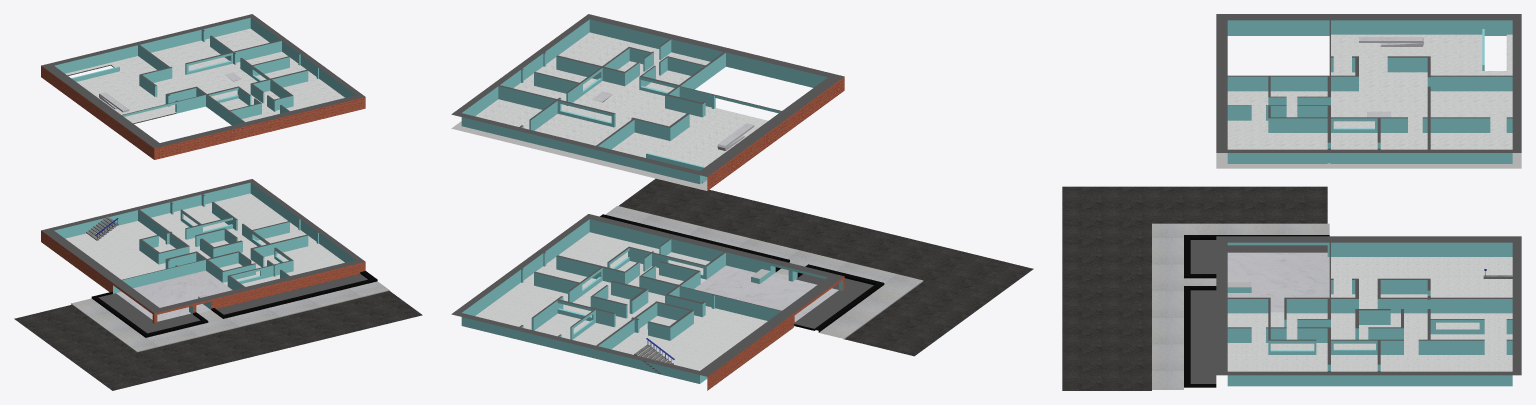
The picture shows the model from 3 angles, left to right: view 1: azimuth 30°, elevation 25°; view 2: azimuth 150°, elevation 25°; view 3: azimuth 270°, elevation 25°; orthographic projection. The views are drawn at different scales.
Visible parts, largest first — view 1: Floor, Floor1; view 2: Floor, Floor1; view 3: Floor, Floor1.
Part boxes in pixels (x1,y1,x2,y2): Floor: [14, 179, 422, 390]; Floor1: [41, 14, 365, 159]; Floor: [451, 178, 1033, 390]; Floor1: [451, 14, 844, 190]; Floor: [1062, 186, 1521, 390]; Floor1: [1216, 14, 1521, 168].
Size of the model in its own units: 376 by 204 by 358.
Materials: 11 (6 with a texture image).
